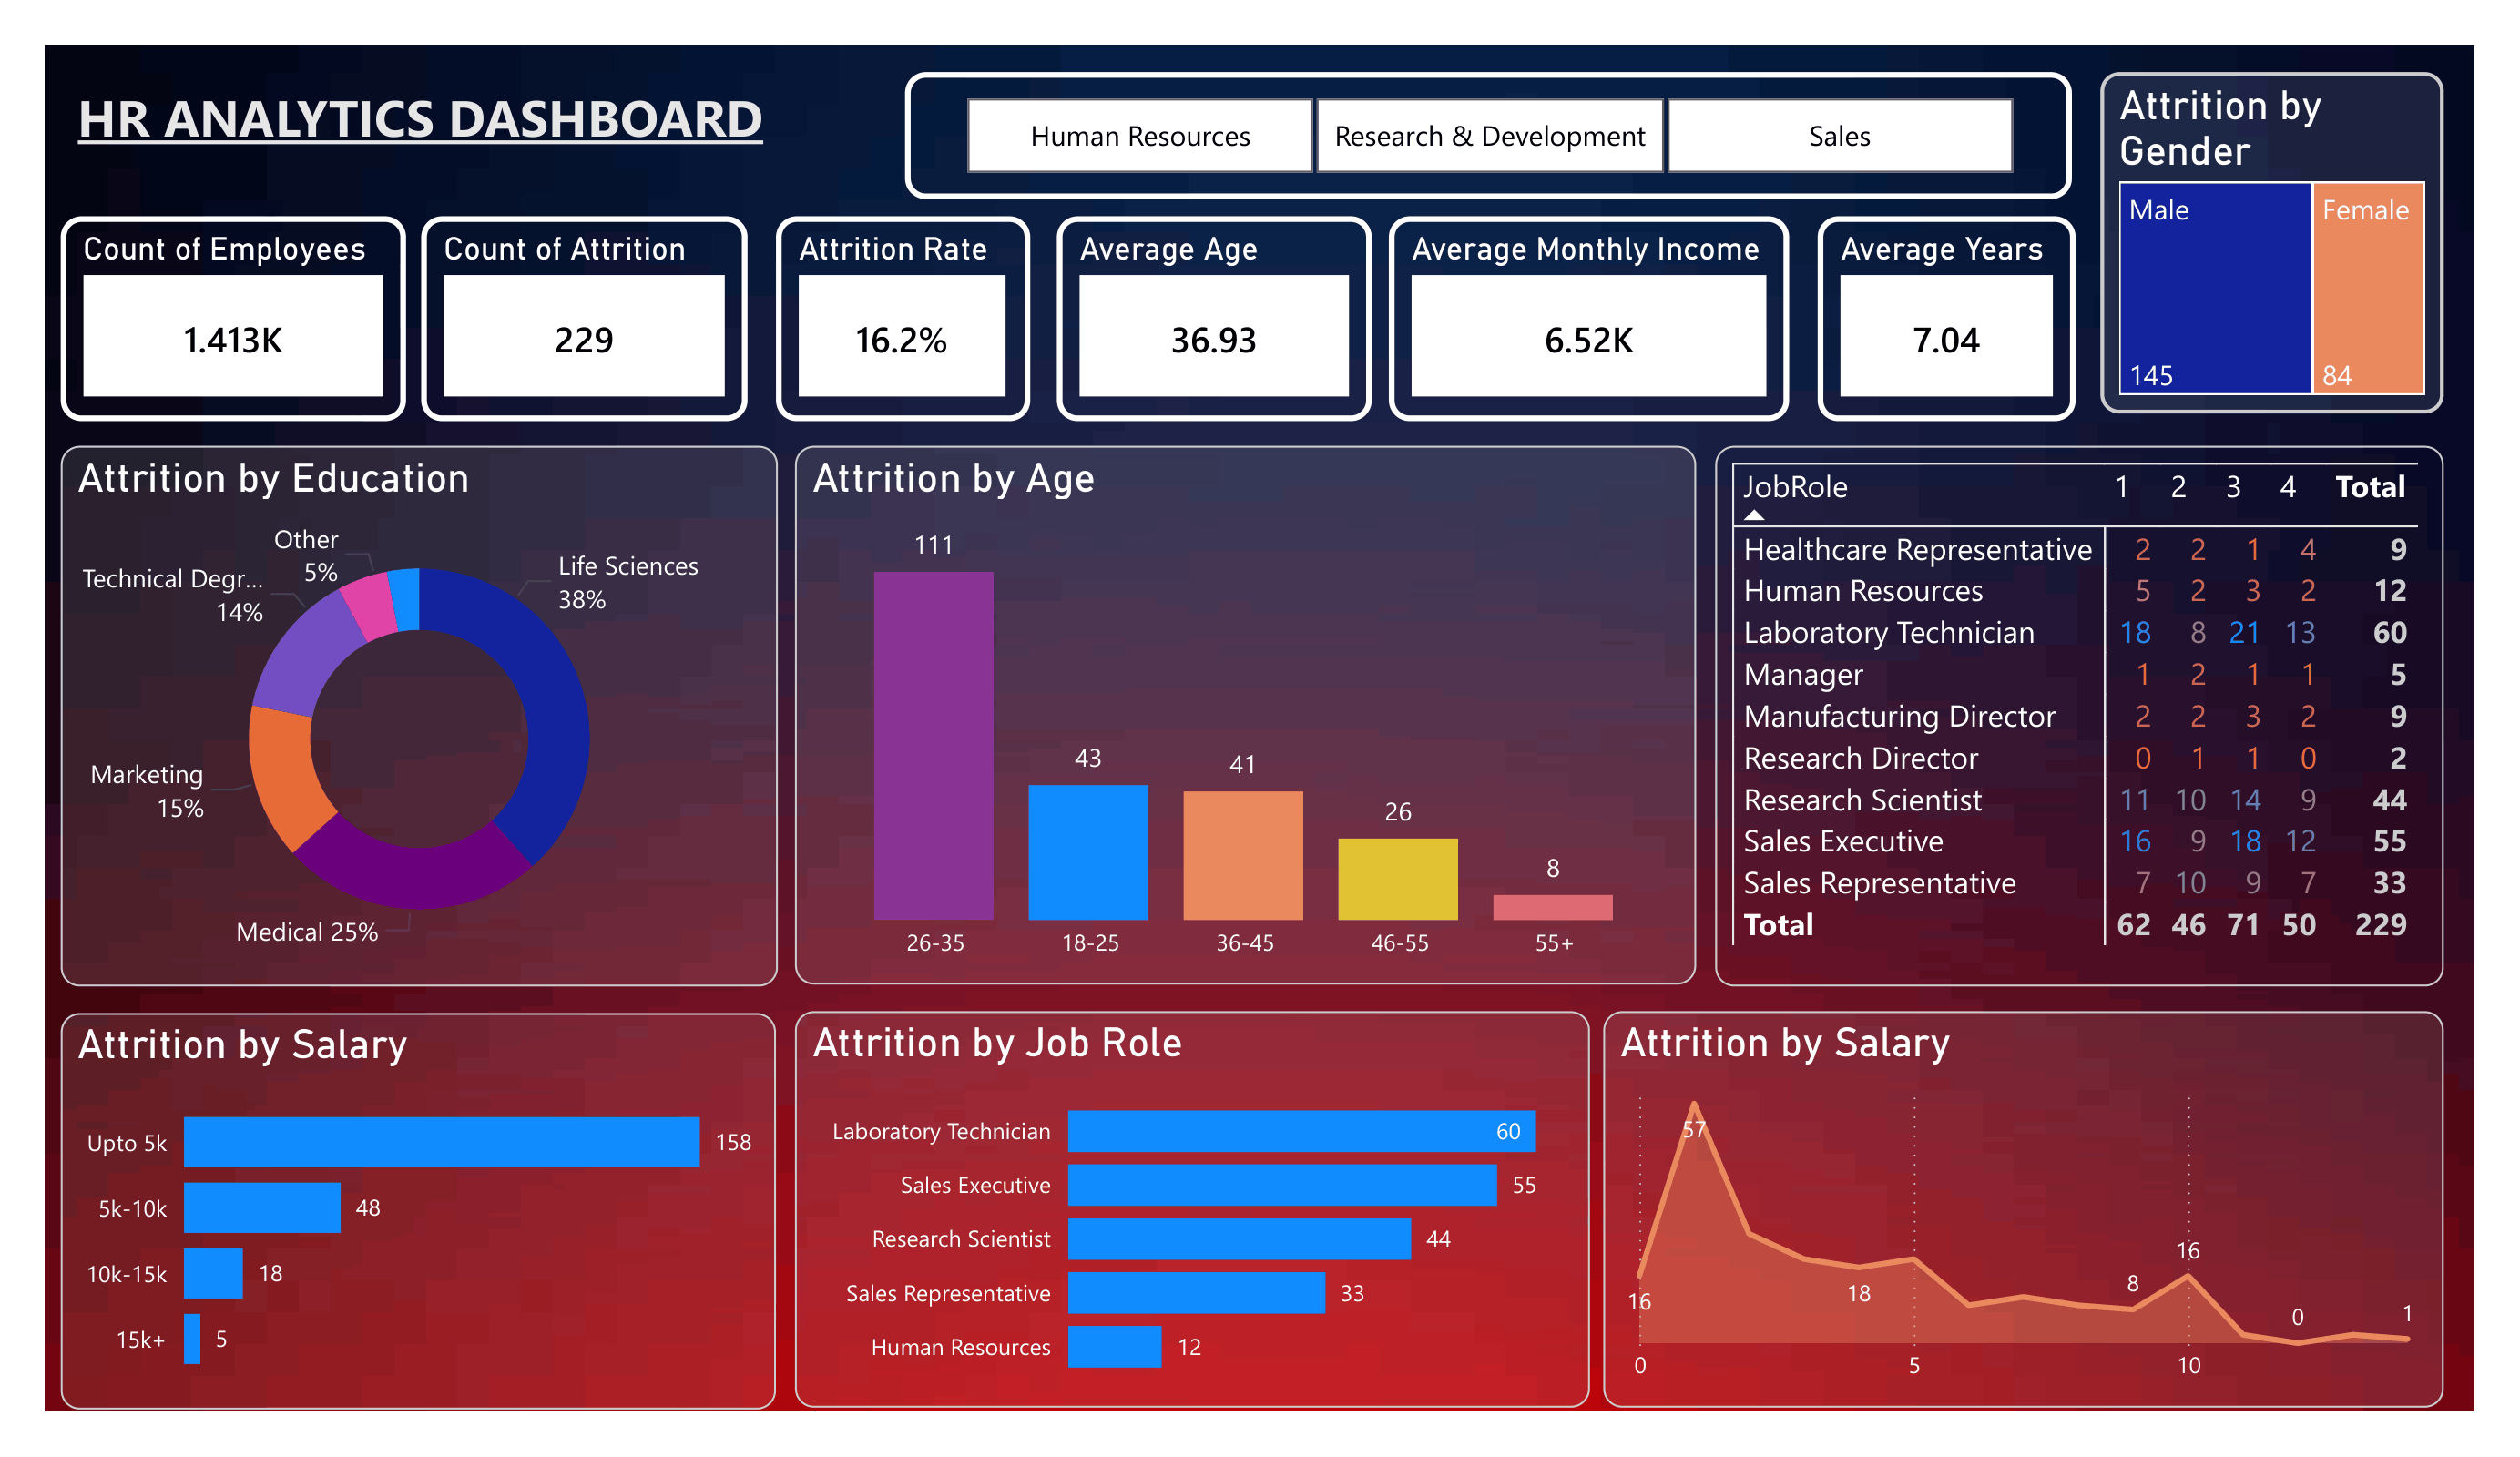

The page's visual inventory and layout, read from the dashboard file:
{"tool":"powerbi","page":{"name":"Page 1","canvas":[1280,720],"ordinal":0},"visuals":[{"type":"cardVisual","title":"Count of Employees","fields":{"Data":["CountNonNull(HR_Analytics.EmpID)"]},"box":[7.5,90,182.5,107.5],"z":0},{"type":"cardVisual","title":"Count of Attrition","fields":{"Data":["Sum(HR_Analytics.AttritionCount)"]},"box":[197.5,90,172.5,107.5],"z":1000},{"type":"cardVisual","title":"Attrition Rate","fields":{"Data":["HR_Analytics.AttritionRate"]},"box":[385,90,133.8,107.5],"z":2000},{"type":"cardVisual","title":"Average Age","fields":{"Data":["Avg(HR_Analytics.Age)"]},"box":[532.5,90,166.2,107.5],"z":3000},{"type":"cardVisual","title":"Average Monthly Income","fields":{"Data":["Avg(HR_Analytics.MonthlyIncome)"]},"box":[707.5,90,211.2,107.5],"z":4000},{"type":"cardVisual","title":"Average Years","fields":{"Data":["Avg(HR_Analytics.YearsAtCompany)"]},"box":[933.8,90,136.2,107.5],"z":5000},{"type":"donutChart","title":"Attrition by Education","fields":{"Category":["HR_Analytics.EducationField"],"Y":["Sum(HR_Analytics.AttritionCount)"]},"box":[7.5,211.2,378.8,285],"z":6000},{"type":"columnChart","title":"Attrition by Age","fields":{"Y":["Sum(HR_Analytics.AttritionCount)"],"Category":["HR_Analytics.AgeGroup"]},"box":[395,211.2,475,283.8],"z":7000},{"type":"pivotTable","title":"Attrition by Age","fields":{"Rows":["HR_Analytics.JobRole"],"Columns":["HR_Analytics.JobSatisfaction"],"Values":["Sum(HR_Analytics.AttritionCount)"]},"box":[880,211.2,383.8,285],"z":8000},{"type":"barChart","title":"Attrition by Salary","fields":{"Category":["HR_Analytics.SalarySlab"],"Y":["Sum(HR_Analytics.AttritionCount)"]},"box":[7.5,510,377.5,208.8],"z":9000},{"type":"barChart","title":"Attrition by Job Role","fields":{"Y":["Sum(HR_Analytics.AttritionCount)"],"Category":["HR_Analytics.JobRole"]},"box":[395,508.8,418.8,208.8],"z":10000},{"type":"areaChart","title":"Attrition by Salary","fields":{"Category":["HR_Analytics.YearsAtCompany"],"Y":["Sum(HR_Analytics.AttritionCount)"]},"box":[821.2,508.8,442.5,208.8],"z":11000},{"type":"treemap","title":"Attrition by Gender","fields":{"Group":["HR_Analytics.Gender"],"Values":["Sum(HR_Analytics.AttritionCount)"]},"box":[1082.5,13.8,181.2,180],"z":12000},{"type":"slicer","fields":{"Values":["HR_Analytics.Department"]},"box":[452.5,13.8,615,67.5],"z":13000},{"type":"textbox","box":[12.3,13.7,439.1,53.5],"z":14000}]}

Visuals, with their boxes in screenshot pixels (x1, y1, x2, y2):
"Count of Employees" cardVisual: box(35, 188, 389, 396)
"Count of Attrition" cardVisual: box(403, 188, 738, 396)
"Attrition Rate" cardVisual: box(767, 188, 1027, 396)
"Average Age" cardVisual: box(1054, 188, 1376, 396)
"Average Monthly Income" cardVisual: box(1393, 188, 1803, 396)
"Average Years" cardVisual: box(1832, 188, 2097, 396)
"Attrition by Education" donutChart: box(35, 423, 770, 976)
"Attrition by Age" columnChart: box(787, 423, 1709, 974)
"Attrition by Age" pivotTable: box(1729, 423, 2474, 976)
"Attrition by Salary" barChart: box(35, 1004, 767, 1409)
"Attrition by Job Role" barChart: box(787, 1001, 1600, 1406)
"Attrition by Salary" areaChart: box(1614, 1001, 2474, 1406)
"Attrition by Gender" treemap: box(2121, 40, 2474, 390)
slicer - HR_Analytics.Department: box(898, 40, 2092, 171)
textbox: box(44, 40, 896, 144)
